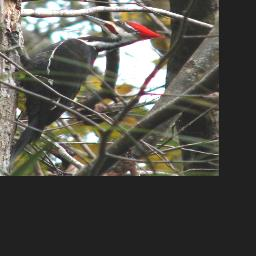Woodpecker: (1, 13, 165, 161)
